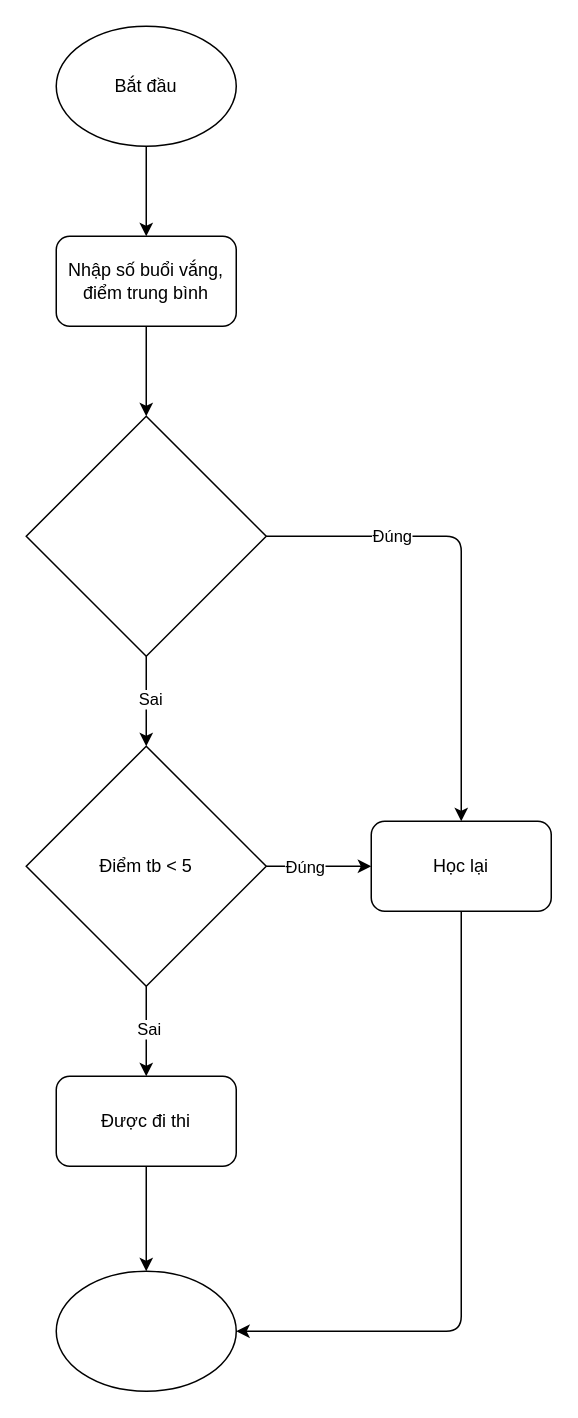
This 578x1418 diagram has some shape labels left out. The shapes that lost their labels are listed below. From the top down, each one's centre as x and y in pixels, then its label:
At (145,535): "số buổi vắng >= 5".
At (145,1330): "Kết thúc".
